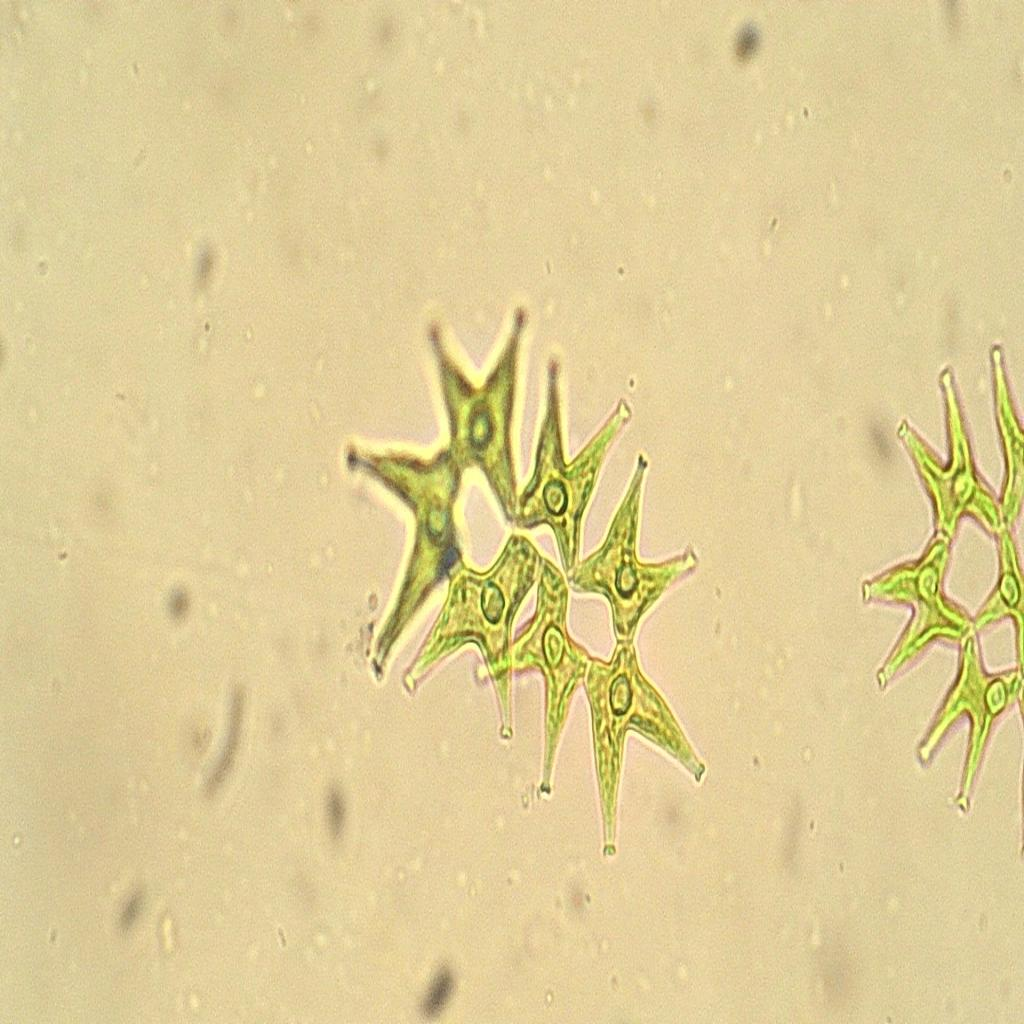Pediastrum_CFI: (336, 284, 709, 870)
